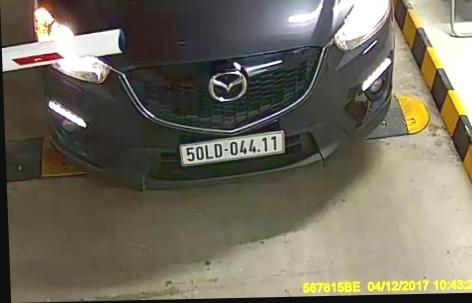License_Plate: (181, 131, 285, 164)
